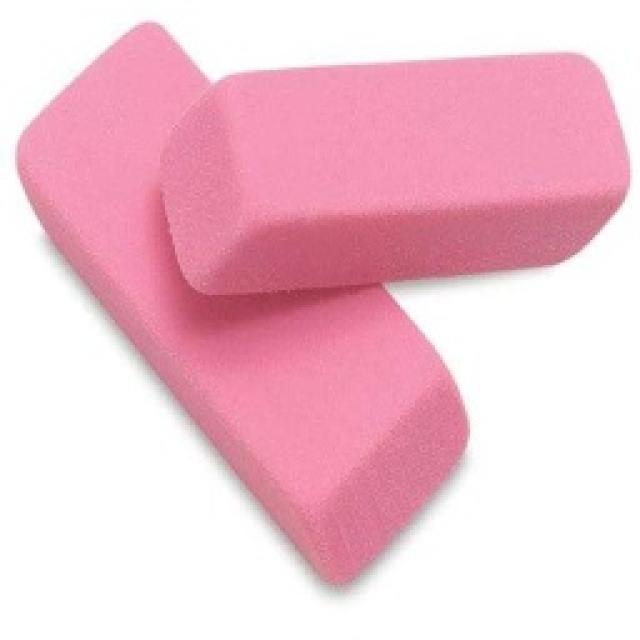Silgi: (164, 52, 632, 297)
